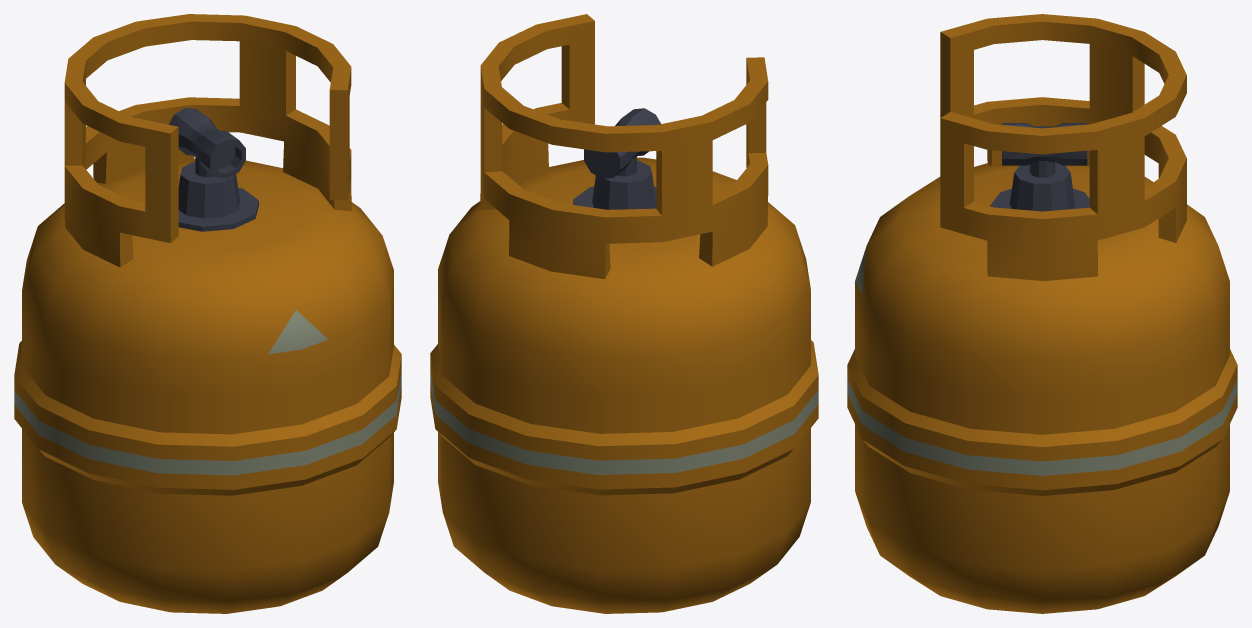
File: GasTank.obj
The picture shows the model from 3 angles, left to right: view 1: azimuth 30°, elevation 25°; view 2: azimuth 150°, elevation 25°; view 3: azimuth 270°, elevation 25°; orthographic projection.
Parts seen in each view (by area): view 1: GasTank_Cylinder.004; view 2: GasTank_Cylinder.004; view 3: GasTank_Cylinder.004.
Boxes of the visible parts, box(x1,y1,x2,y2) form: GasTank_Cylinder.004: box(14, 14, 401, 613); GasTank_Cylinder.004: box(430, 14, 818, 613); GasTank_Cylinder.004: box(847, 14, 1237, 613).
Size of the model in its own units: 1.01 by 1.39 by 1.01.
